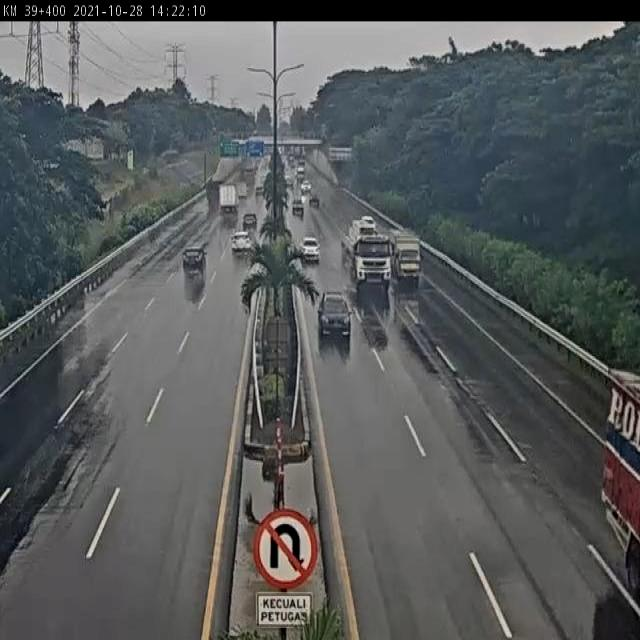Car: (313, 290, 353, 341), (179, 246, 206, 282), (294, 236, 322, 267), (225, 231, 253, 255), (289, 195, 306, 221)
Truck: (570, 350, 640, 610), (337, 215, 395, 293), (389, 223, 432, 284), (212, 178, 240, 215)
